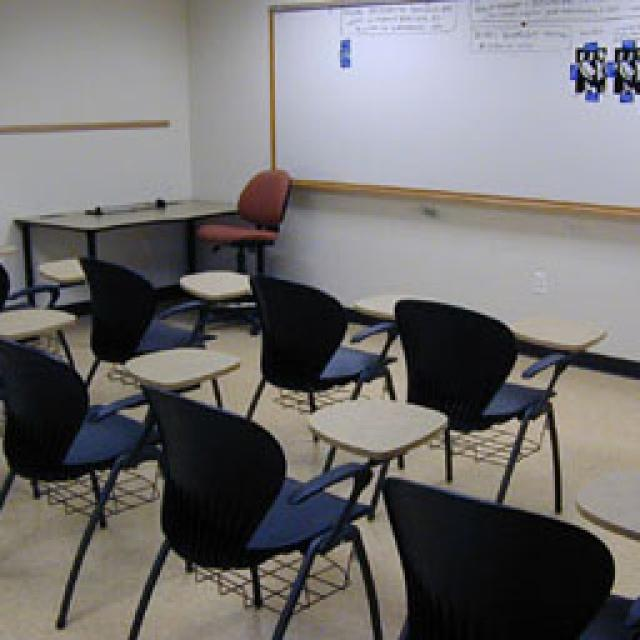Kursi: (139, 382, 385, 639), (0, 336, 162, 632), (393, 296, 566, 516), (243, 272, 399, 402), (77, 258, 203, 360), (194, 168, 291, 253)
Whiteboard: (267, 0, 639, 219)
